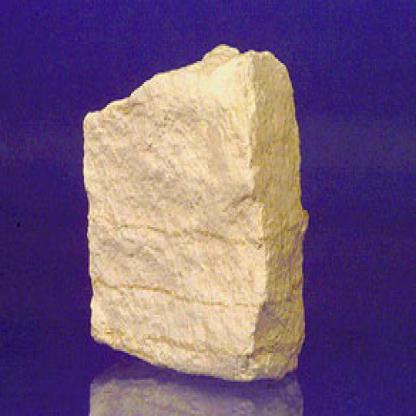Sedimentary_Chalk: (67, 32, 329, 390)
